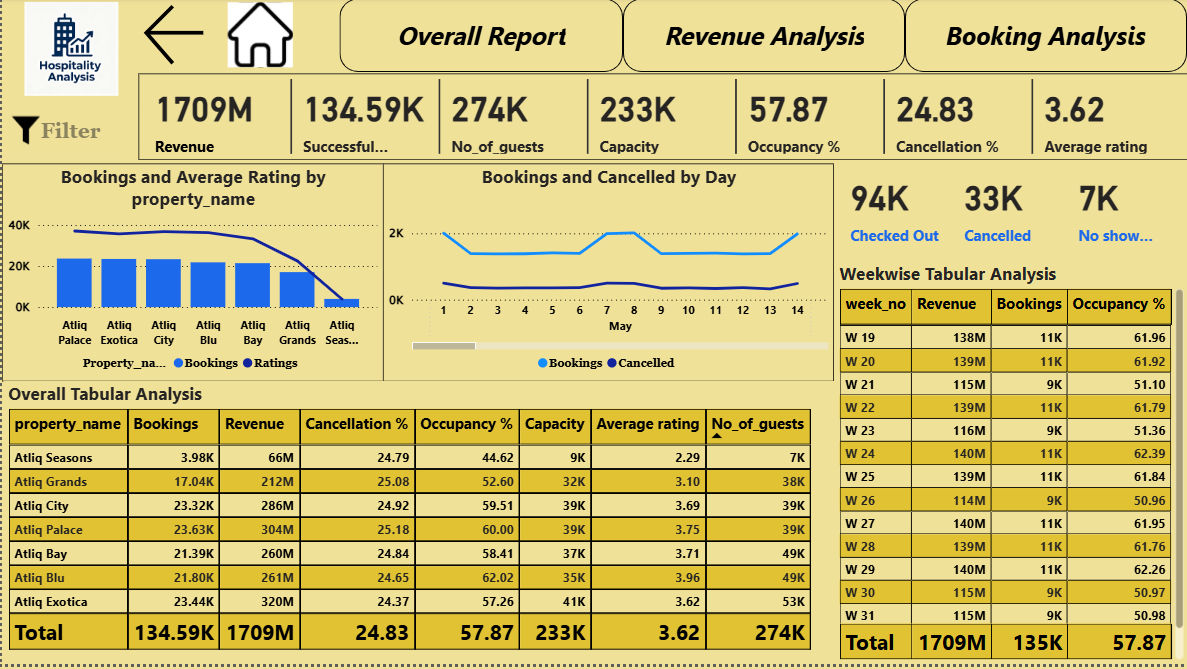

What the dashboard file says about the page in this screenshot:
{"tool":"powerbi","page":{"name":"Booking Analysis","canvas":[1280,720],"ordinal":3},"visuals":[{"type":"shape","box":[0,0,1279.4,123.1],"z":0,"group":"g4"},{"type":"group","id":"g1","title":"Base Card","box":[5.8,123.1,1269.7,100],"z":0,"group":"g2"},{"type":"shape","box":[851.6,123.1,213.3,100.2],"z":0,"group":"g1"},{"type":"card","fields":{"Values":["Metrics.Revenue"]},"box":[27,132.7,162.4,79.3],"z":0,"group":"g3"},{"type":"tableEx","title":"Overall Tabular Analysis","fields":{"Values":["dim_hotels.property_name","Metrics.Revenue","Metrics.Total Bookings","Metrics.Total Capacity","Metrics.Occupancy %","Metrics.Cancellation %","Metrics.Average Rating","Sum(fact_bookings.no_guests)"]},"box":[25.4,483.2,823.3,224.1],"z":0},{"type":"shape","box":[308.3,19.1,240,66.8],"z":1000,"group":"g4"},{"type":"group","id":"g2","title":"Cards","box":[5.8,123.1,1273.6,100],"z":1000},{"type":"shape","box":[642,123.1,213.3,100.2],"z":1000,"group":"g1"},{"type":"group","id":"g3","title":"Cards","box":[27,132.7,1252.4,80.8],"z":1000,"group":"g2"},{"type":"card","fields":{"Values":["Metrics.Succesful Bookings"]},"box":[204.5,132.7,239.8,79.3],"z":1000,"group":"g3"},{"type":"actionButton","box":[309.9,19.1,238.4,66.8],"z":2000,"group":"g4"},{"type":"shape","box":[430.6,123.1,213.3,100.2],"z":2000,"group":"g1"},{"type":"card","fields":{"Values":["Metrics.Capacity"]},"box":[412.1,132.7,239.8,79.3],"z":2000,"group":"g3"},{"type":"multiRowCard","fields":{"Values":["Metrics.Checked Out","Metrics.Cancelled","Metrics.No show bookings"]},"box":[858.3,246.4,402.1,87.4],"z":2000},{"type":"shape","box":[550.2,19.2,238.6,67.3],"z":3000,"group":"g4"},{"type":"shape","box":[217.2,123.1,213.3,100.2],"z":3000,"group":"g1"},{"type":"card","fields":{"Values":["Metrics.Occupancy %"]},"box":[623.6,132.7,239.8,79.3],"z":3000,"group":"g3"},{"type":"lineClusteredColumnComboChart","fields":{"Category":["dim_hotels.property_name"],"Y2":["Metrics.Average Rating"],"Y":["Metrics.Bookings"]},"box":[27,222.5,454.6,247.9],"z":3000},{"type":"actionButton","box":[550.2,19.2,238.6,67.3],"z":4000,"group":"g4"},{"type":"shape","box":[5.8,123.1,213.3,100.2],"z":4000,"group":"g1"},{"type":"card","fields":{"Values":["Metrics.Cancellation %"]},"box":[833.1,132.7,239.8,79.3],"z":4000,"group":"g3"},{"type":"tableEx","title":"Weekly Trend Key","fields":{"Values":["dim_date.week no","Metrics.Revenue","Metrics.Bookings","Metrics.Occupancy %"]},"box":[863,379.9,394.2,327.4],"z":4000},{"type":"shape","box":[1063,123.1,213.3,100.2],"z":5000,"group":"g1"},{"type":"card","fields":{"Values":["Metrics.Average Rating"]},"box":[1040.8,132.7,239.8,79.3],"z":5000,"group":"g3"},{"type":"lineChart","fields":{"Category":["dim_date.date.Variation.Date Hierarchy.Day"],"Y":["Metrics.Bookings","Metrics.Cancelled"]},"box":[494.3,222.5,344.9,247.9],"z":5000},{"type":"shape","box":[789.9,19.1,240,66.8],"z":6000,"group":"g4"},{"type":"actionButton","box":[788.3,19.1,240,66.8],"z":7000,"group":"g4"},{"type":"shape","box":[1031.2,19.2,238.6,67.3],"z":8000,"group":"g4"},{"type":"group","id":"g4","title":"Header","box":[0,0,1279.4,123.1],"z":8125},{"type":"actionButton","box":[1031.2,19.2,238.6,67.3],"z":9000,"group":"g4"},{"type":"textbox","box":[15.9,15.9,292.5,93.8],"z":9250,"group":"g4"},{"type":"actionButton","box":[11.5,61.6,59.6,48.1],"z":9500,"group":"g4"}]}

Visuals, with their boxes in screenshot pixels (x1, y1, x2, y2), scaled from the page's 1280x720 canvas onto the 1187x669 screenshot:
shape: select_region(0, 0, 1186, 114)
"Base Card" group: select_region(5, 114, 1183, 207)
shape: select_region(790, 114, 988, 207)
card - Metrics.Revenue: select_region(25, 123, 176, 197)
"Overall Tabular Analysis" tableEx: select_region(24, 449, 787, 657)
shape: select_region(286, 18, 508, 80)
"Cards" group: select_region(5, 114, 1186, 207)
shape: select_region(595, 114, 793, 207)
"Cards" group: select_region(25, 123, 1186, 198)
card - Metrics.Succesful Bookings: select_region(190, 123, 412, 197)
actionButton: select_region(287, 18, 508, 80)
shape: select_region(399, 114, 597, 207)
card - Metrics.Capacity: select_region(382, 123, 605, 197)
multiRowCard - Metrics.Checked Out x Metrics.Cancelled: select_region(796, 229, 1169, 310)
shape: select_region(510, 18, 731, 80)
shape: select_region(201, 114, 399, 207)
card - Metrics.Occupancy %: select_region(578, 123, 801, 197)
lineClusteredColumnComboChart - dim_hotels.property_name x Metrics.Average Rating: select_region(25, 207, 447, 437)
actionButton: select_region(510, 18, 731, 80)
shape: select_region(5, 114, 203, 207)
card - Metrics.Cancellation %: select_region(773, 123, 995, 197)
"Weekly Trend Key" tableEx: select_region(800, 353, 1166, 657)
shape: select_region(986, 114, 1184, 207)
card - Metrics.Average Rating: select_region(965, 123, 1186, 197)
lineChart - dim_date.date.Variation.Date Hierarchy.Day x Metrics.Bookings: select_region(458, 207, 778, 437)
shape: select_region(733, 18, 955, 80)
actionButton: select_region(731, 18, 954, 80)
shape: select_region(956, 18, 1178, 80)
"Header" group: select_region(0, 0, 1186, 114)
actionButton: select_region(956, 18, 1178, 80)
textbox: select_region(15, 15, 286, 102)
actionButton: select_region(11, 57, 66, 102)
